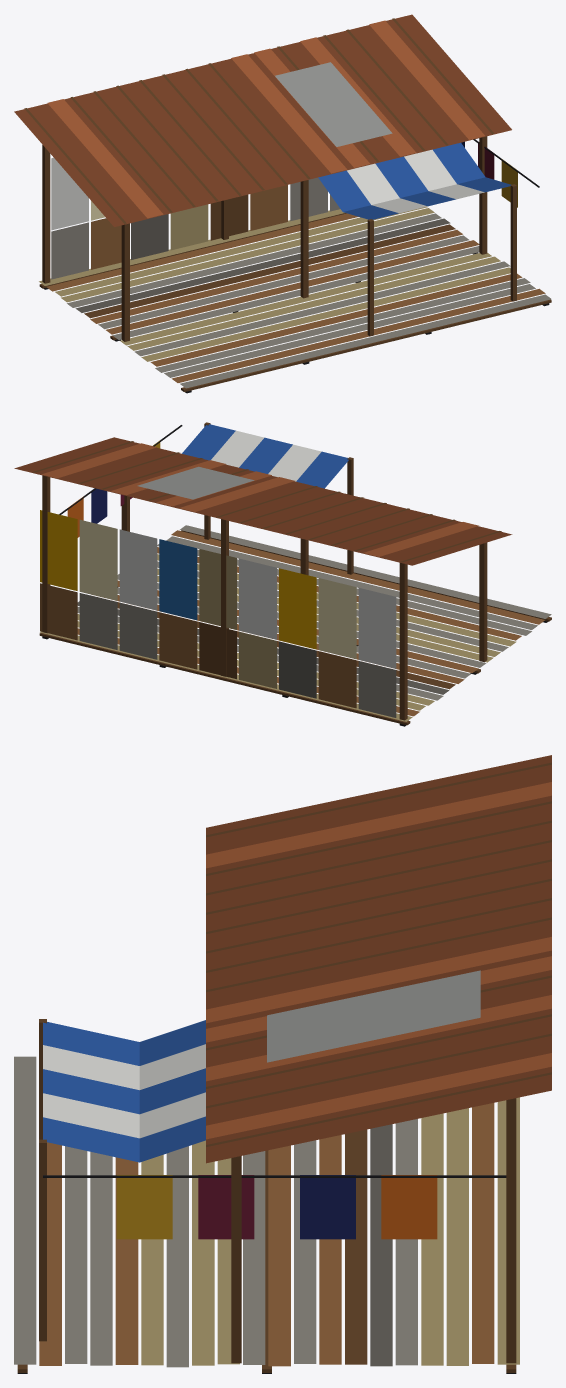
The model's file is building_makoko-smoking-deck.glb.
3 views of the same model, one above another, from view 1: azimuth 30°, elevation 25°; view 2: azimuth 150°, elevation 25°; view 3: azimuth 270°, elevation 25° (orthographic). The views are drawn at different scales.
Visible parts, largest first — view 1: body; view 2: body; view 3: body.
Part boxes in pixels (box(x1,y1,x2,y2)): body: box(14, 14, 551, 393); body: box(14, 422, 551, 726); body: box(14, 755, 551, 1373).
Size of the model in its own units: 7.8 by 3.25 by 5.29.
